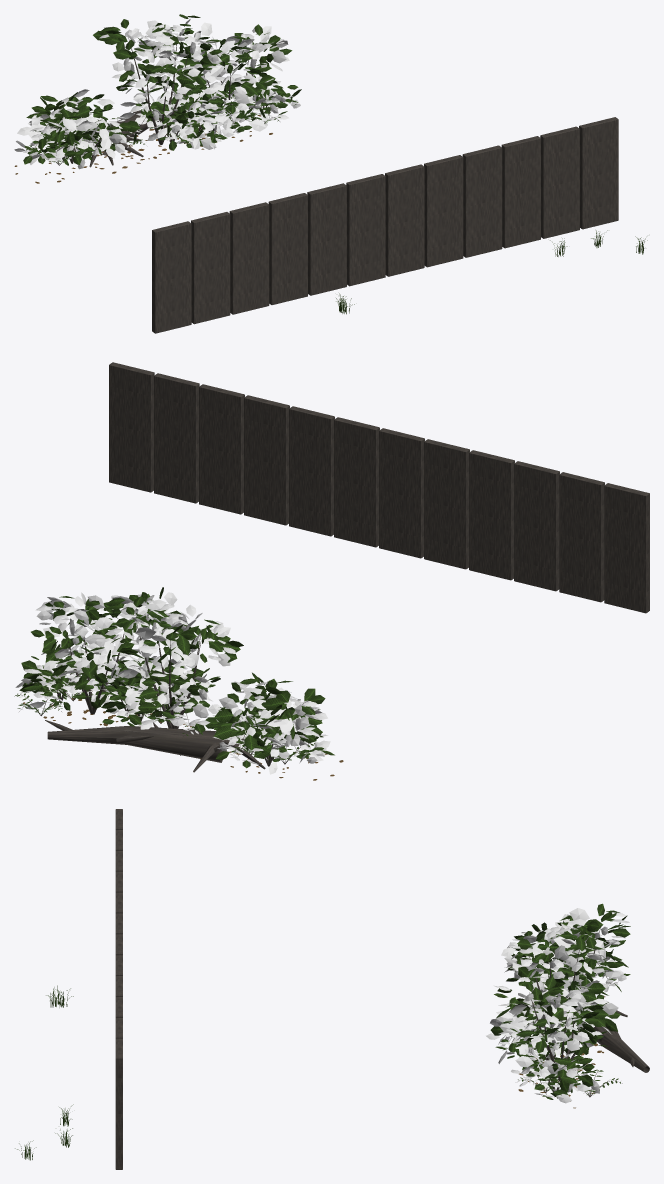
Rendered from SM_Env_Tile_p1_m3.fbx.
The picture shows the model from 3 angles, top to bottom: view 1: azimuth 30°, elevation 25°; view 2: azimuth 150°, elevation 25°; view 3: azimuth 270°, elevation 25°; orthographic projection. The views are drawn at different scales.
Visible parts, largest first — view 1: SM_Env_Tile_p1_m3; view 2: SM_Env_Tile_p1_m3; view 3: SM_Env_Tile_p1_m3.
Boxes of the visible parts, x1,y1,x2,y2 form: SM_Env_Tile_p1_m3: (14, 14, 647, 333); SM_Env_Tile_p1_m3: (14, 362, 649, 780); SM_Env_Tile_p1_m3: (15, 809, 649, 1169).
Size of what is drawn, in the model's own units: 1194 by 1288 by 291.
7 materials, 3 textured.
